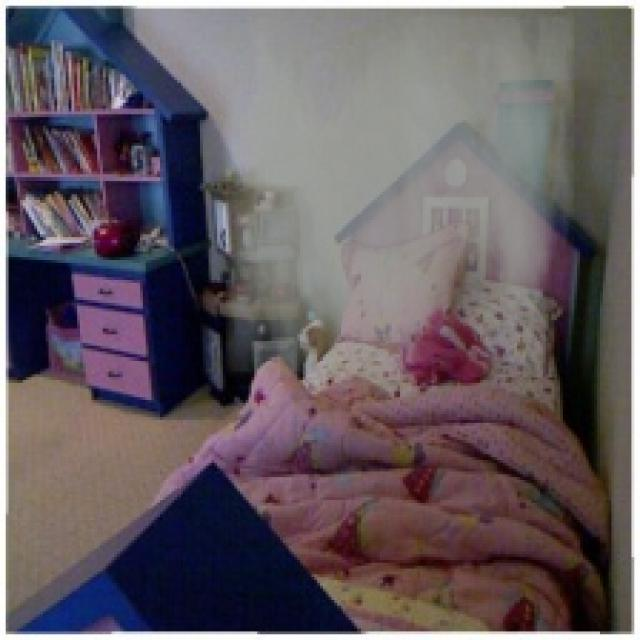smoke: (226, 9, 574, 377)
